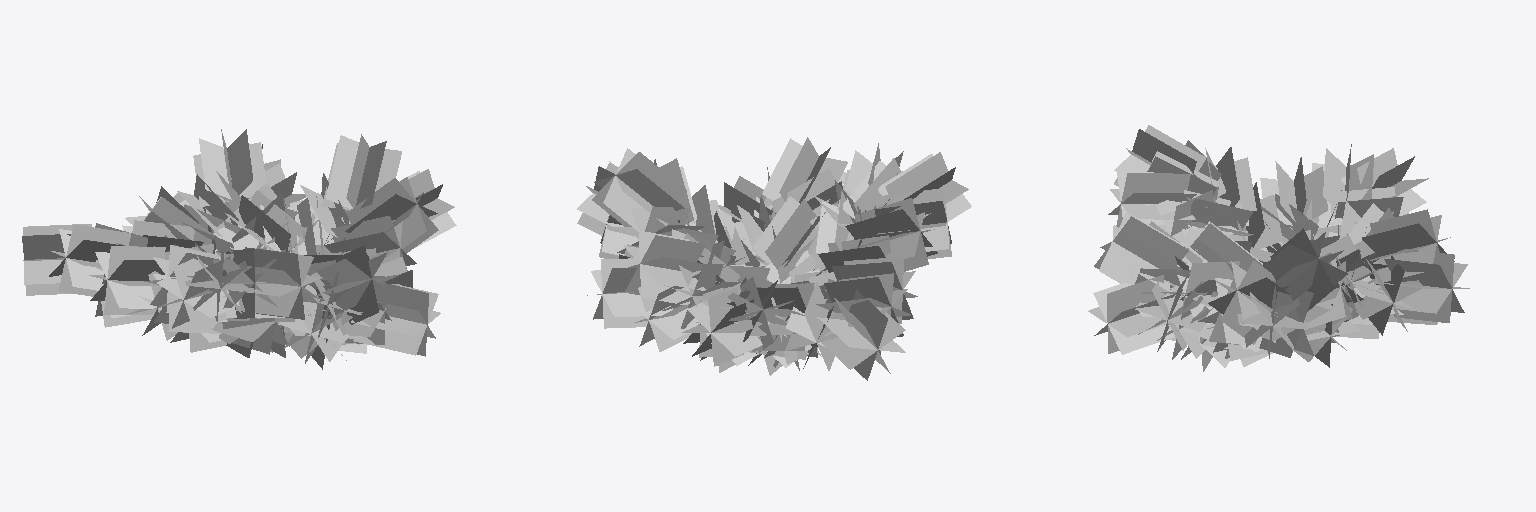
File: Branch.obj
The picture shows the model from 3 angles: view 1: azimuth 30°, elevation 25°; view 2: azimuth 150°, elevation 25°; view 3: azimuth 270°, elevation 25°; orthographic projection.
Visible parts, largest first — view 1: 平面.042_平面.157, 平面.005, 平面.032_平面.147, 平面.017_平面.016, 平面.056_平面.171, 平面.055_平面.170, 平面.007, 平面.043_平面.158, 平面.034_平面.149, 平面.006, 平面.049_平面.164, 平面.046_平面.161 (+21 smaller); view 2: 平面.042_平面.157, 平面.006, 平面.017_平面.016, 平面.035_平面.150, 平面.023_平面.138, 平面.016_平面.015, 平面.065_平面.180, 平面.056_平面.171, 平面.031_平面.146, 平面.007, 平面.034_平面.149, 平面.024_平面.139 (+20 smaller); view 3: 平面.056_平面.171, 平面.055_平面.170, 平面.042_平面.157, 平面.016_平面.015, 平面.017_平面.016, 平面.032_平面.147, 平面.043_平面.158, 平面.005, 平面.018_平面.017, 平面.031_平面.146, 平面.006, 平面.044_平面.159 (+21 smaller).
Part boxes in pixels (bbox=[...]): 平面.042_平面.157: bbox=[322, 134, 401, 209]; 平面.005: bbox=[89, 246, 165, 314]; 平面.032_平面.147: bbox=[231, 247, 322, 319]; 平面.017_平面.016: bbox=[193, 129, 265, 206]; 平面.056_平面.171: bbox=[313, 245, 400, 324]; 平面.055_平面.170: bbox=[351, 283, 440, 356]; 平面.007: bbox=[49, 225, 130, 296]; 平面.043_平面.158: bbox=[345, 177, 438, 253]; 平面.034_平面.149: bbox=[157, 252, 239, 332]; 平面.006: bbox=[22, 224, 91, 295]; 平面.049_平面.164: bbox=[213, 190, 305, 252]; 平面.046_平面.161: bbox=[324, 216, 416, 271]; 平面.042_平面.157: bbox=[592, 148, 686, 231]; 平面.006: bbox=[817, 289, 905, 380]; 平面.017_平面.016: bbox=[623, 230, 712, 304]; 平面.035_平面.150: bbox=[845, 198, 937, 271]; 平面.023_平面.138: bbox=[682, 287, 768, 366]; 平面.016_平面.015: bbox=[587, 258, 676, 328]; 平面.065_平面.180: bbox=[751, 196, 825, 268]; 平面.056_平面.171: bbox=[762, 137, 847, 215]; 平面.031_平面.146: bbox=[878, 152, 971, 221]; 平面.007: bbox=[816, 273, 910, 336]; 平面.034_平面.149: bbox=[874, 188, 951, 258]; 平面.024_平面.139: bbox=[745, 283, 827, 351]; 平面.056_平面.171: bbox=[1094, 212, 1188, 291]; 平面.055_平面.170: bbox=[1088, 275, 1175, 354]; 平面.042_平面.157: bbox=[1263, 228, 1347, 310]; 平面.016_平面.015: bbox=[1380, 249, 1469, 322]; 平面.017_平面.016: bbox=[1362, 209, 1454, 284]; 平面.032_平面.147: bbox=[1108, 171, 1196, 227]; 平面.043_平面.158: bbox=[1208, 260, 1288, 344]; 平面.005: bbox=[1260, 157, 1330, 228]; 平面.018_平面.017: bbox=[1347, 256, 1424, 335]; 平面.031_平面.146: bbox=[1114, 125, 1205, 186]; 平面.006: bbox=[1341, 148, 1428, 215]; 平面.044_平面.159: bbox=[1259, 291, 1329, 357].
Size of the model in its own units: 12.39 by 5.4 by 11.12.